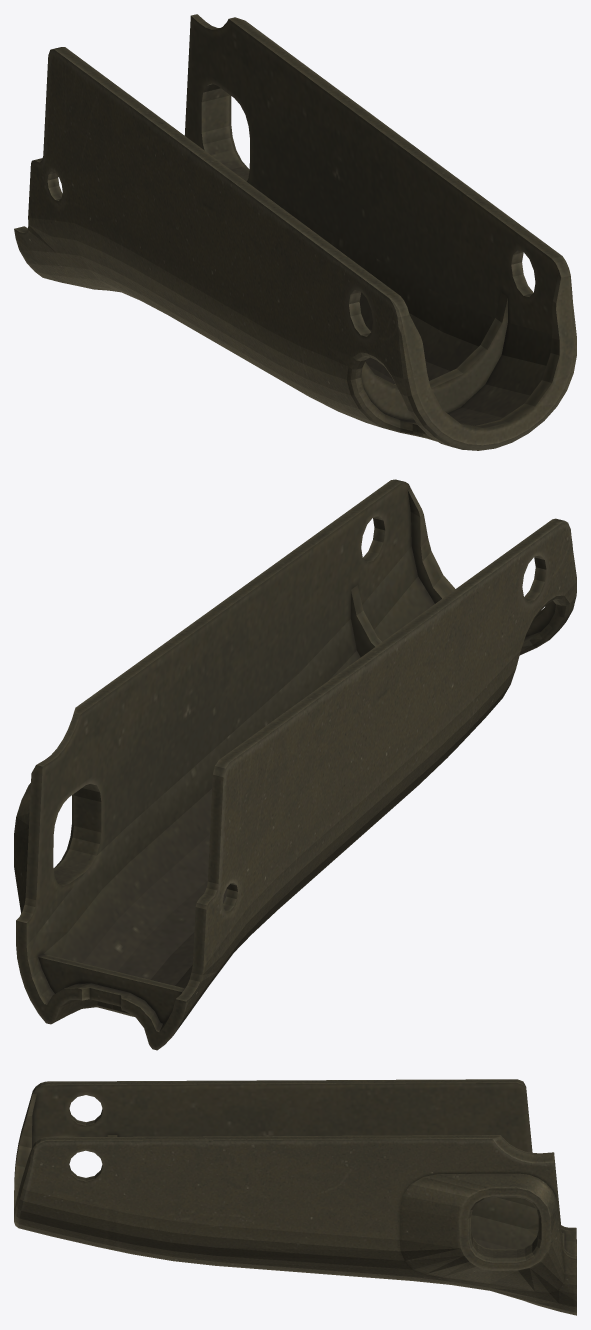
3 views of the same model, one above another, from view 1: azimuth 30°, elevation 25°; view 2: azimuth 150°, elevation 25°; view 3: azimuth 270°, elevation 25° (orthographic). The views are drawn at different scales.
Parts seen in each view (by area): view 1: TW_61825d24d3a39d50044c13af_PZ_Import; view 2: TW_61825d24d3a39d50044c13af_PZ_Import; view 3: TW_61825d24d3a39d50044c13af_PZ_Import.
Boxes of the visible parts, x1=… form: TW_61825d24d3a39d50044c13af_PZ_Import: x1=14, y1=14, x2=576, y2=450; TW_61825d24d3a39d50044c13af_PZ_Import: x1=14, y1=479, x2=576, y2=1050; TW_61825d24d3a39d50044c13af_PZ_Import: x1=14, y1=1079, x2=576, y2=1315.
Size of the model in its own units: 0.0223 by 0.0796 by 0.0294.
Materials: 1 (1 with a texture image).
